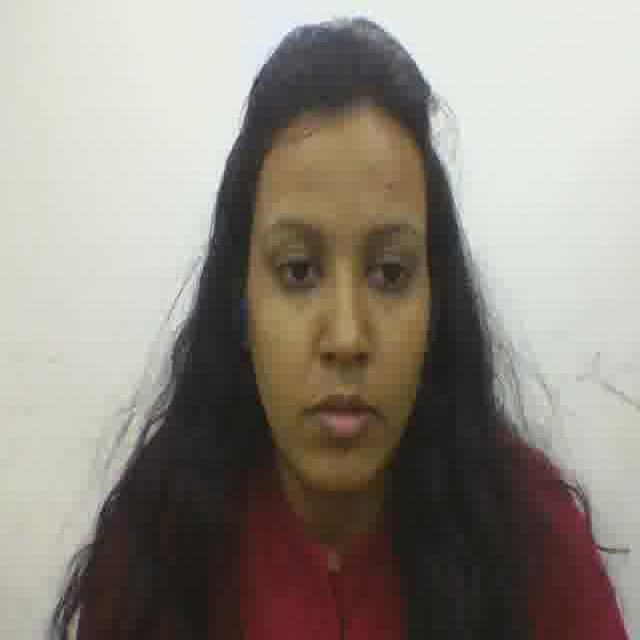Frustration: (244, 117, 430, 479)
